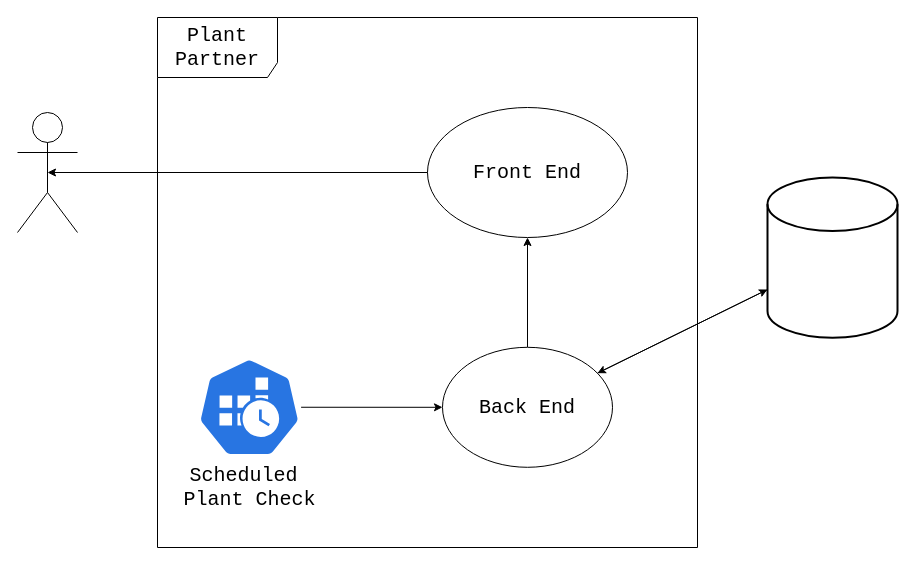
Some shapes in this 916 by 565 pixel diagram are drawn without their labels. Each missing label, with the centre of its shape:
"Plant Partner DB" belongs at (x=832, y=257).
"User" belongs at (x=47, y=172).
